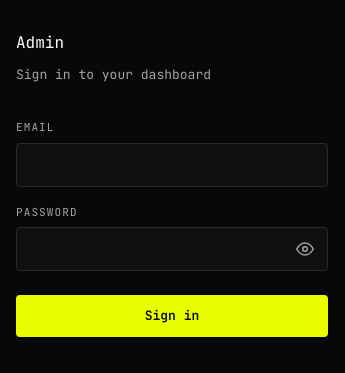
LoginForm › shows fallback error message when submitLogin returns a normalized failure
Type "user@example.com" into the field labelled "Email".
click(172, 165); type("user@example.com")  # box [16, 142, 328, 187]
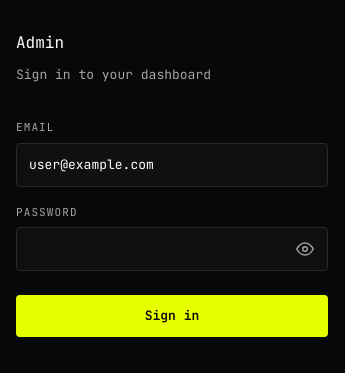
Type "password123" into the password field labelled "Password".
click(172, 249); type("password123")  # box [16, 227, 328, 271]
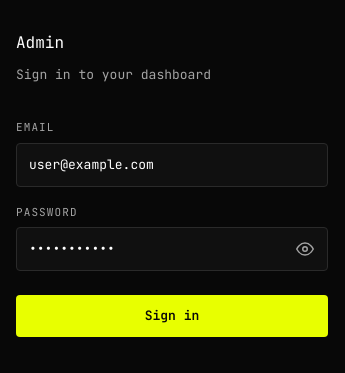
Click the button "Sign in".
click(172, 316)  # box [16, 295, 328, 338]
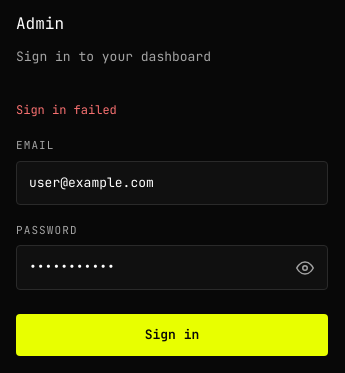
Now the text "Sign in failed" is shown, box [16, 102, 117, 118]
